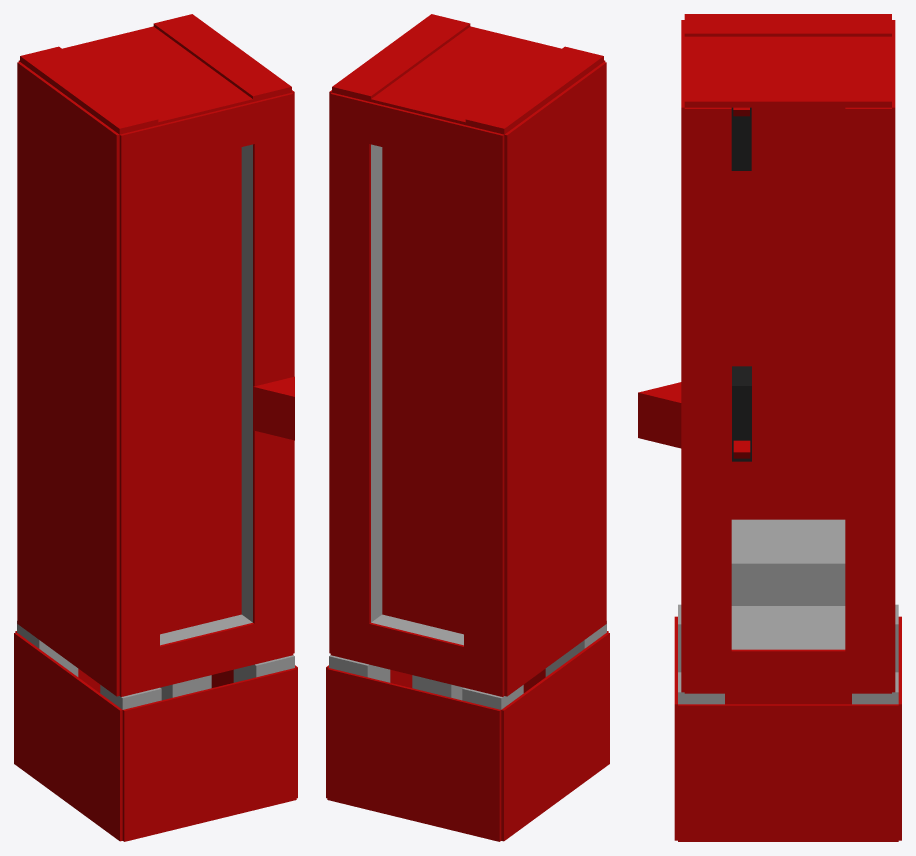
Rendered from stator_machine.dae.
3 renders of one model, left to right at view 1: azimuth 30°, elevation 25°; view 2: azimuth 150°, elevation 25°; view 3: azimuth 270°, elevation 25°, orthographic. The views are drawn at different scales.
Parts seen in each view (by area): view 1: Leiste_2, Leiste (×2), Platte, Komponente_12, Komponente_11 (×2), Komponente_7, Leiste2 (×2), Komponente_4, Komponente_10 (×4), Dreieck, Komponente_8, Leiste_1; view 2: Leiste_2 (×2), Leiste (×2), Platte, Komponente_12, Komponente_11 (×2), Komponente_7, Leiste2 (×2), Komponente_4, Komponente_10 (×4), Leiste_1, Komponente_8; view 3: Leiste_1 (×2), Leiste_2, Komponente_11 (×2), Komponente_8, Leiste2 (×2), Komponente_7, Komponente_9, Leiste (×2), Endlagenschalter_1 (×2), Dreieck, Komponente_12 (×2), Komponente_10 (×2).
Part boxes in pixels (x1,y1,x2,y2): Leiste_2: [17, 62, 119, 696]; Leiste (×2): [119, 92, 293, 696]; Platte: [160, 147, 241, 634]; Komponente_12: [122, 668, 296, 841]; Komponente_11 (×2): [14, 632, 297, 841]; Komponente_7: [62, 26, 252, 124]; Leiste2 (×2): [20, 14, 291, 134]; Komponente_4: [241, 144, 252, 622]; Komponente_10 (×4): [17, 621, 294, 709]; Dreieck: [253, 376, 294, 440]; Komponente_8: [160, 614, 252, 645]; Leiste_1: [292, 90, 294, 612]; Leiste_2 (×2): [504, 62, 606, 696]; Leiste (×2): [330, 92, 504, 696]; Platte: [382, 147, 463, 634]; Komponente_12: [327, 668, 501, 841]; Komponente_11 (×2): [326, 632, 609, 841]; Komponente_7: [371, 26, 561, 124]; Leiste2 (×2): [332, 14, 603, 134]; Komponente_4: [371, 144, 382, 622]; Komponente_10 (×4): [329, 621, 606, 709]; Leiste_1: [329, 90, 331, 612]; Komponente_8: [371, 614, 463, 645]; Leiste_1 (×2): [684, 107, 891, 651]; Leiste_2: [731, 107, 845, 519]; Komponente_11 (×2): [678, 693, 898, 841]; Komponente_8: [731, 519, 845, 649]; Leiste2 (×2): [684, 14, 891, 107]; Komponente_7: [684, 36, 891, 81]; Komponente_9: [684, 649, 891, 693]; Leiste (×2): [681, 107, 895, 692]; Endlagenschalter_1 (×2): [731, 107, 751, 461]; Dreieck: [638, 382, 681, 448]; Komponente_12 (×2): [674, 616, 901, 840]; Komponente_10 (×2): [678, 672, 898, 704].
Size of the model in its own units: 2.52 by 3.11 by 9.61.
